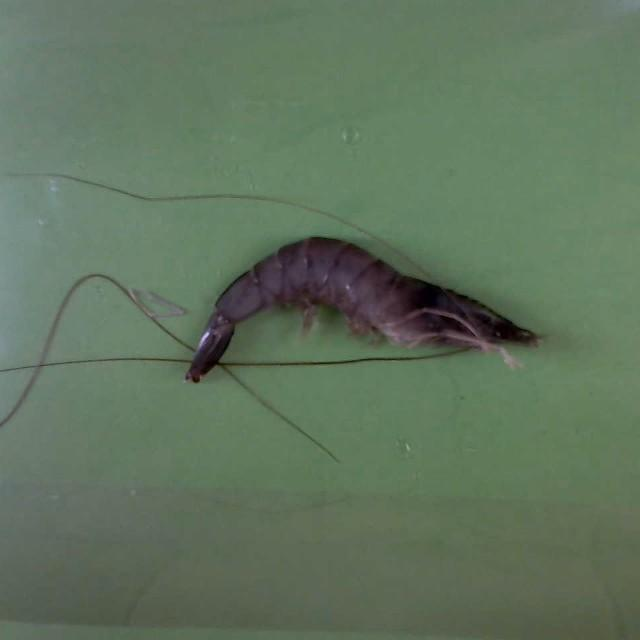shrimp: (186, 237, 539, 382)
